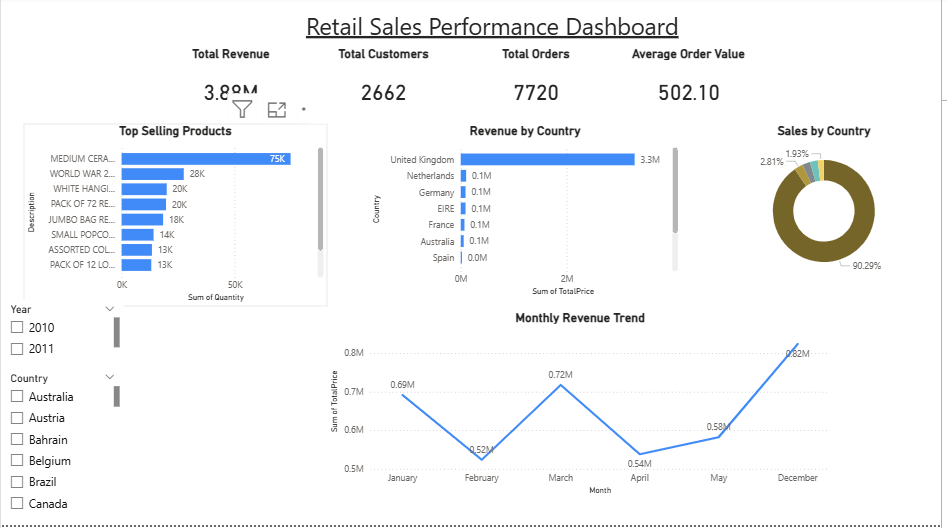

This screenshot's page, from the dashboard's own definition file:
{"tool":"powerbi","page":{"name":"Page 1","canvas":[1280,720],"ordinal":0},"visuals":[{"type":"card","title":"Total Revenue","fields":{"Values":["Sum(online_retail_cleaned.TotalPrice)"]},"box":[211.1,68.1,204.3,105.5],"z":0},{"type":"clusteredBarChart","title":"Top Selling Products","fields":{"Category":["online_retail_cleaned.Description"],"Y":["Sum(online_retail_cleaned.Quantity)"]},"box":[30.6,173.6,413.6,248.5],"z":1000},{"type":"barChart","title":"Revenue by Country","fields":{"Category":["online_retail_cleaned.Country"],"Y":["Sum(online_retail_cleaned.TotalPrice)"]},"box":[500,173.6,426.8,240.1],"z":2000},{"type":"lineChart","title":"Monthly Revenue Trend","fields":{"Y":["Sum(online_retail_cleaned.TotalPrice)"],"Category":["online_retail_cleaned.InvoiceDate.Variation.Date Hierarchy.Month"]},"box":[444.6,428,688.9,256.6],"z":3000},{"type":"slicer","fields":{"Values":["online_retail_cleaned.Country"]},"box":[0,507.2,166.8,200.9],"z":4000},{"type":"slicer","fields":{"Values":["online_retail_cleaned.InvoiceDate.Variation.Date Hierarchy.Year"]},"box":[0,413.6,166.8,81.7],"z":5000},{"type":"donutChart","title":"Sales by Country","fields":{"Category":["online_retail_cleaned.Country"],"Y":["Sum(online_retail_cleaned.TotalPrice)"]},"box":[982.5,173.6,277.2,219.6],"z":6000},{"type":"textbox","box":[57.9,13.6,1222.1,54.5],"z":7000},{"type":"card","title":"Total Customers","fields":{"Values":["Count(online_retail_cleaned.CustomerID)"]},"box":[418.7,68.1,204.3,105.5],"z":8000},{"type":"card","title":"Total Orders","fields":{"Values":["Count(online_retail_cleaned.InvoiceNo)"]},"box":[626.4,68.1,204.3,105.5],"z":9000},{"type":"card","title":"Average Order Value","fields":{"Values":["online_retail_cleaned.AOV"]},"box":[834,68.1,204.3,105.5],"z":10000}]}

Visuals, with their boxes on the page's 1280x720 design canvas (x1, y1, x2, y2). These are canvas units, not pixel positions in the 947x528 screenshot, which may show the page scaled, cropped or inside an application window:
"Total Revenue" card: l=211, t=68, r=415, b=174
"Top Selling Products" clusteredBarChart: l=31, t=174, r=444, b=422
"Revenue by Country" barChart: l=500, t=174, r=927, b=414
"Monthly Revenue Trend" lineChart: l=445, t=428, r=1134, b=685
slicer - online_retail_cleaned.Country: l=0, t=507, r=167, b=708
slicer - online_retail_cleaned.InvoiceDate.Variation.Date Hierarchy.Year: l=0, t=414, r=167, b=495
"Sales by Country" donutChart: l=982, t=174, r=1260, b=393
textbox: l=58, t=14, r=1280, b=68
"Total Customers" card: l=419, t=68, r=623, b=174
"Total Orders" card: l=626, t=68, r=831, b=174
"Average Order Value" card: l=834, t=68, r=1038, b=174
